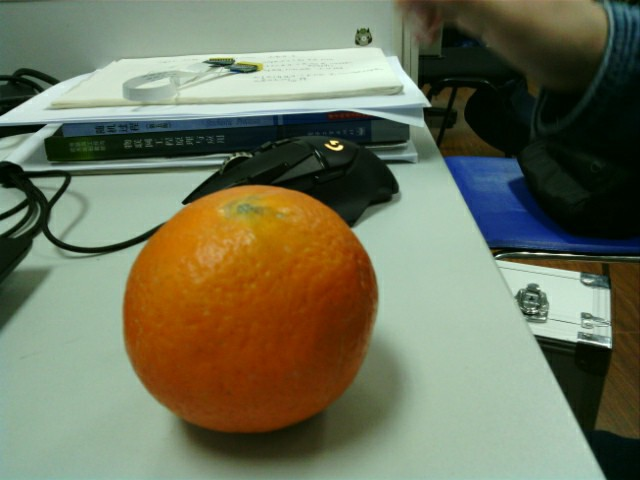normal_orange: (122, 185, 379, 429)
